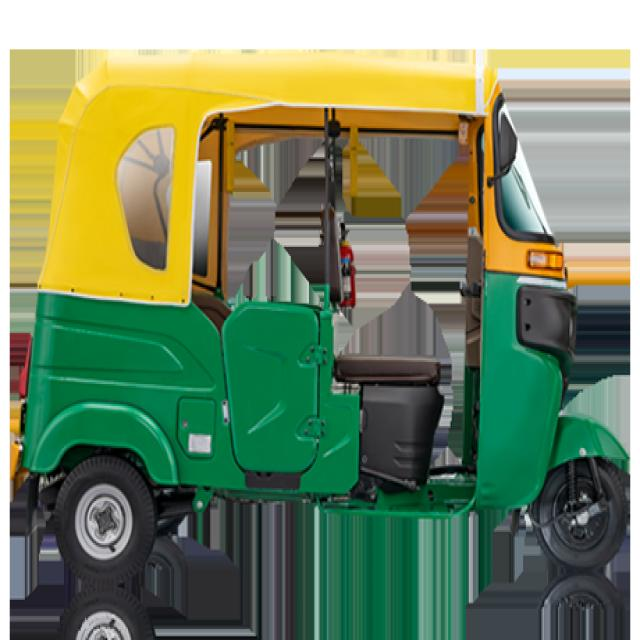autorickshaw: (21, 53, 626, 592)
